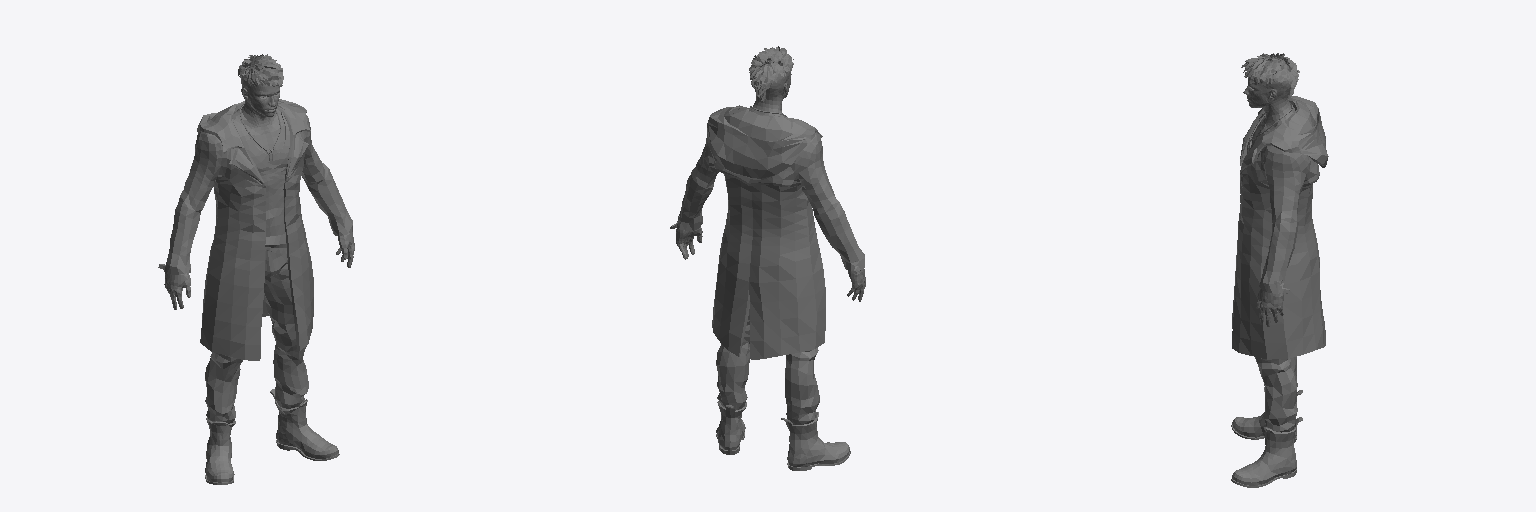
Rendered from Dante.obj.
3 views of the same model, side by side, from view 1: azimuth 30°, elevation 25°; view 2: azimuth 150°, elevation 25°; view 3: azimuth 270°, elevation 25° (orthographic).
Parts seen in each view (by area): view 1: rdmobj01.004, rdmobj02.004, rdmobj00.004, rdmobj04.004, rdmobj07.004, rdmobj03.004; view 2: rdmobj01.004, rdmobj02.004, rdmobj07.004, rdmobj04.004, rdmobj00.004; view 3: rdmobj01.004, rdmobj02.004, rdmobj04.004, rdmobj07.004, rdmobj00.004.
Boxes of the visible parts, box(x1,y1,x2,y2) form: rdmobj01.004: box(158, 99, 352, 360); rdmobj02.004: box(205, 250, 339, 484); rdmobj00.004: box(164, 104, 354, 297); rdmobj04.004: box(234, 66, 282, 131); rdmobj07.004: box(238, 54, 283, 87); rdmobj03.004: box(171, 109, 353, 309); rdmobj01.004: box(670, 105, 864, 359); rdmobj02.004: box(716, 309, 850, 470); rdmobj07.004: box(749, 46, 793, 101); rdmobj04.004: box(747, 73, 791, 116); rdmobj00.004: box(676, 106, 865, 289); rdmobj01.004: box(1232, 96, 1328, 359); rdmobj02.004: box(1231, 357, 1302, 487); rdmobj04.004: box(1243, 61, 1292, 130); rdmobj07.004: box(1241, 53, 1299, 98); rdmobj00.004: box(1247, 102, 1292, 315).
Size of the model in its own units: 2.89 by 5.95 by 1.3.